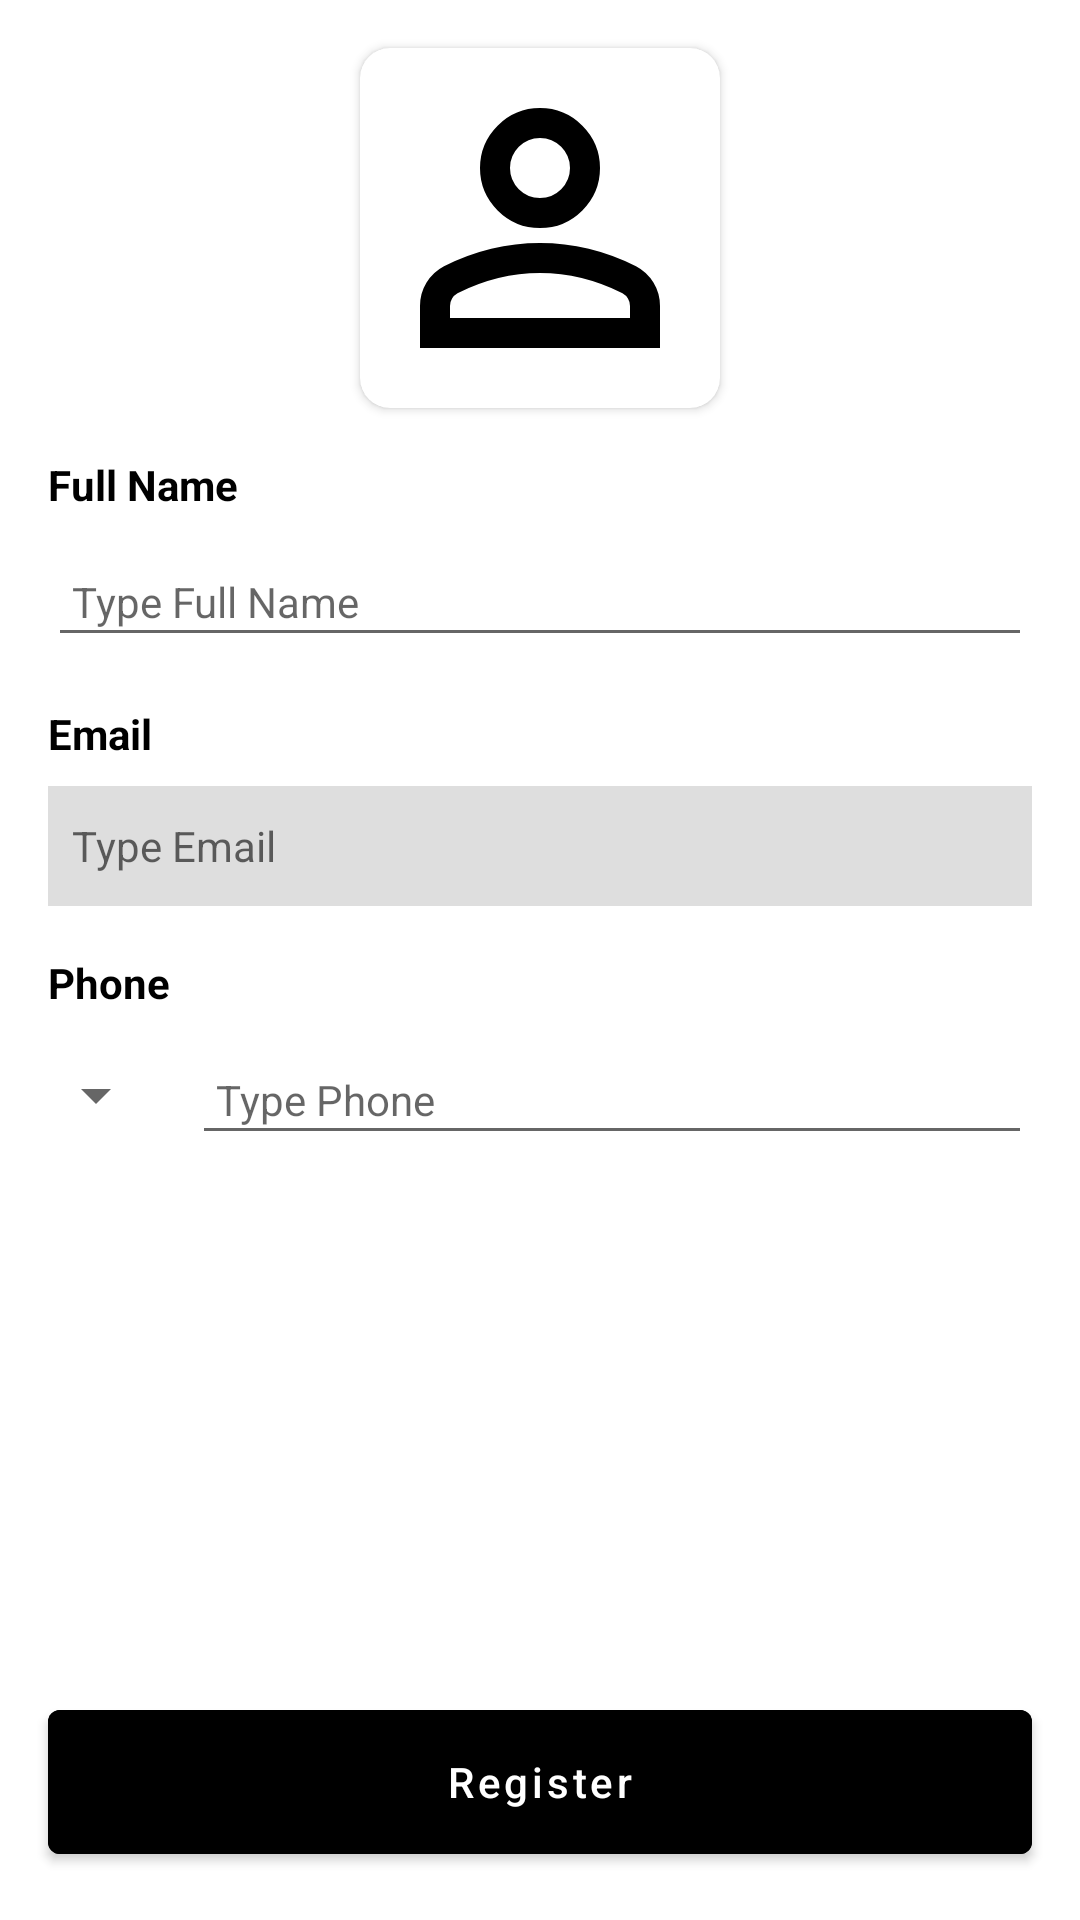

Screen size 1080×1920. Icon name, then its center in pixels as [x,y]:
profile: [540,228]
